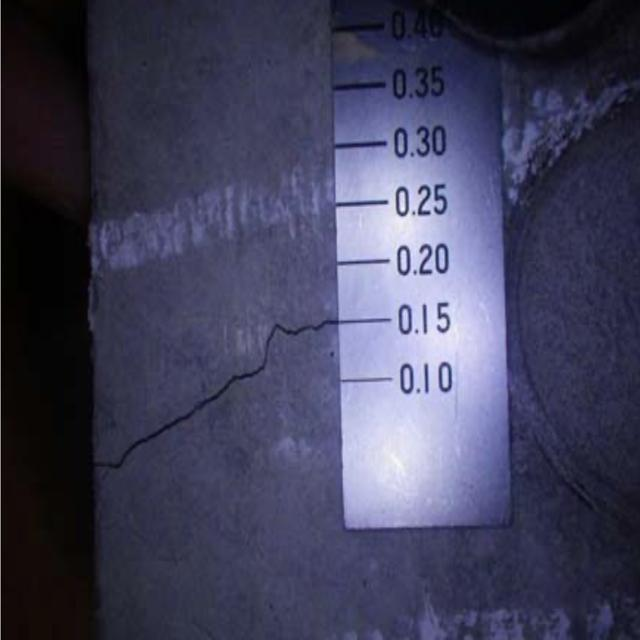crack: (73, 281, 340, 493)
